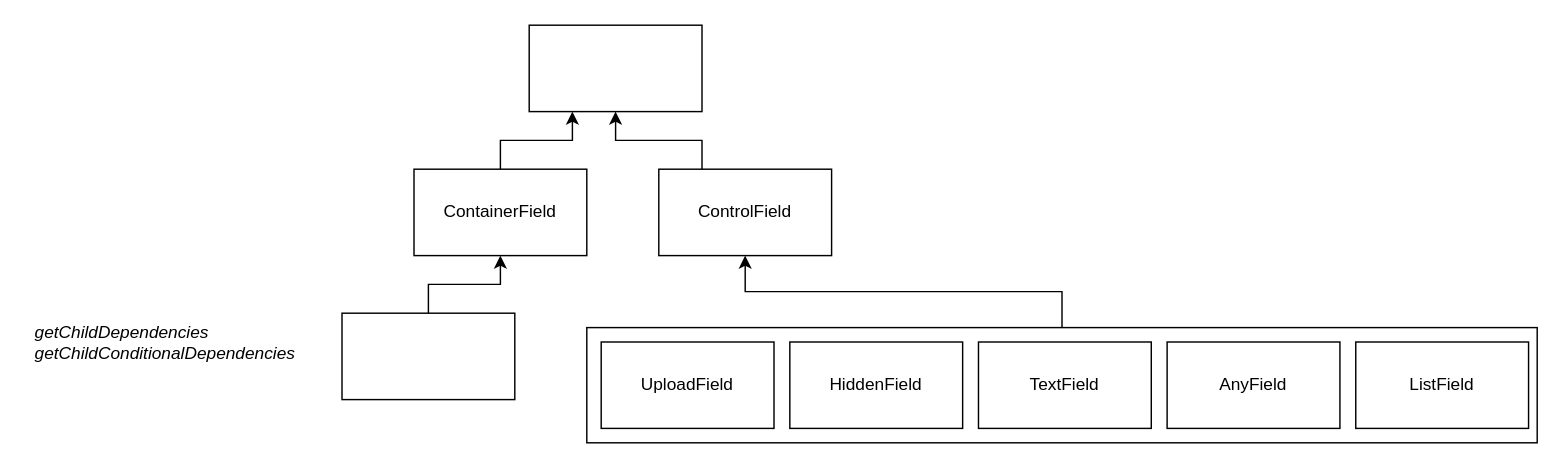
Image size: 1562x468. Some labels were removed from this diagram. Here are the shapes that lost their labels. From the top down, the box of each, then its label:
(528, 24, 702, 112): Field
(341, 312, 515, 400): ObjectField
